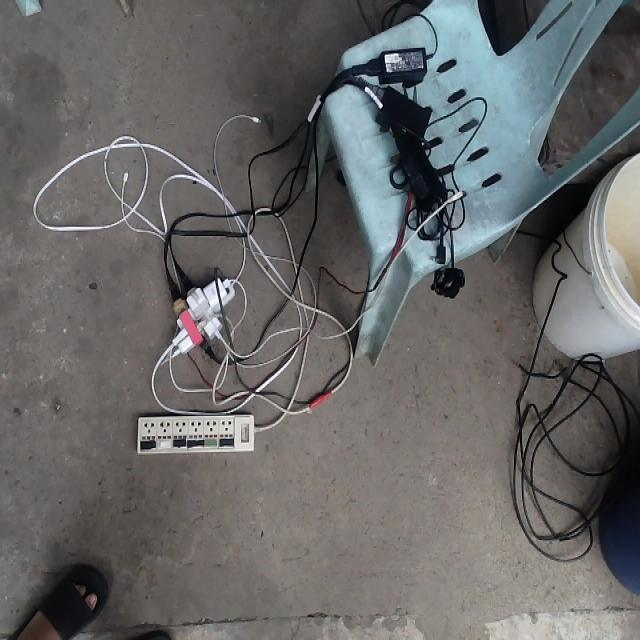-: (169, 273, 237, 355)
